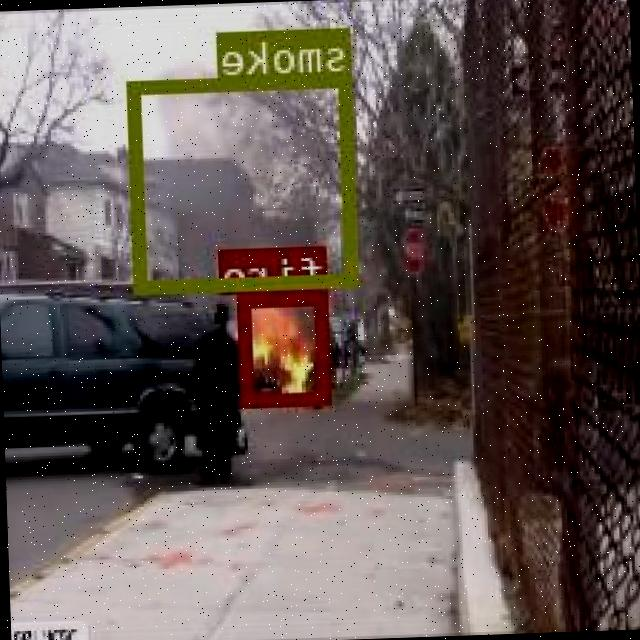fire: (241, 289, 333, 405)
smoke: (128, 72, 360, 292)
